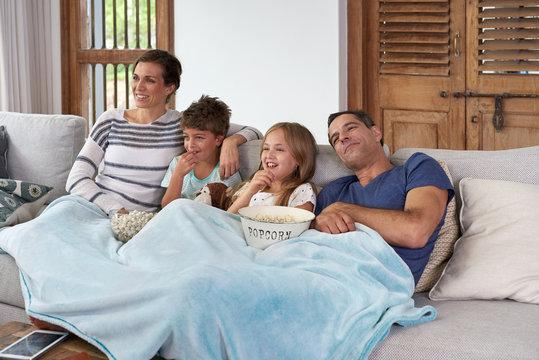blanket: (0, 192, 438, 360)
short sleeve shirt: (312, 151, 455, 288), (160, 153, 243, 208), (231, 182, 316, 217)
sweater: (62, 103, 264, 218)
